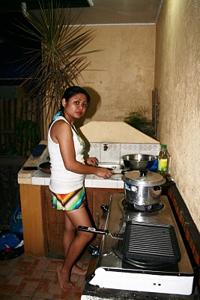person: (48, 85, 112, 294)
